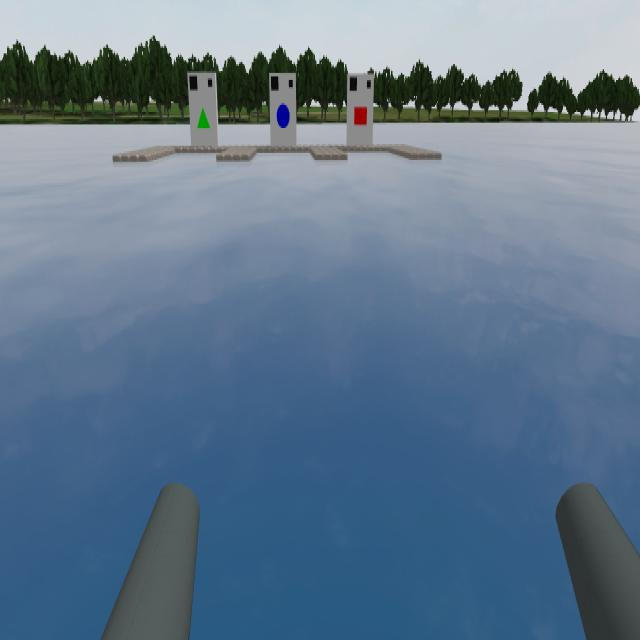dock: (186, 60, 221, 146), (266, 63, 298, 142), (345, 68, 375, 148)
